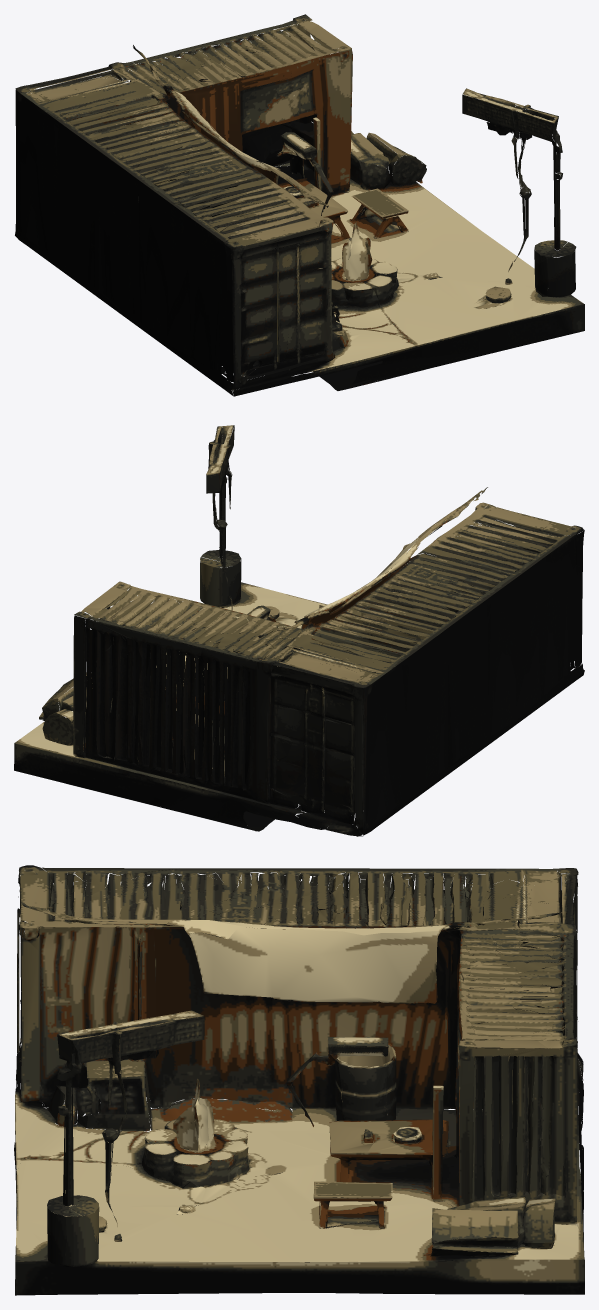
The model's file is start.glb.
3 renders of one model, top to bottom at view 1: azimuth 30°, elevation 25°; view 2: azimuth 150°, elevation 25°; view 3: azimuth 270°, elevation 25°, orthographic. The views are drawn at different scales.
Parts seen in each view (by area): view 1: start; view 2: start; view 3: start.
Part boxes in pixels (x1,y1,x2,y2): start: (15,14,584,396); start: (14,425,584,836); start: (14,865,584,1295).
Bounding box in the file's own units: 2.43 × 1.28 × 2.6.
Materials: 1 (1 with a texture image).
